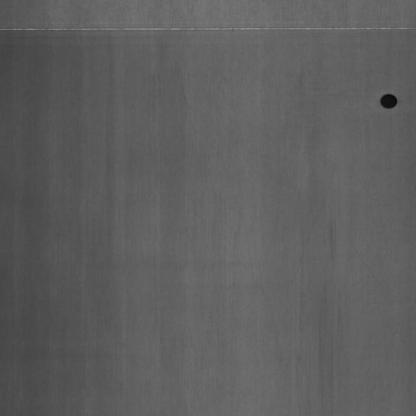punching_hole: (374, 84, 400, 118)
welding_line: (0, 21, 415, 47)
